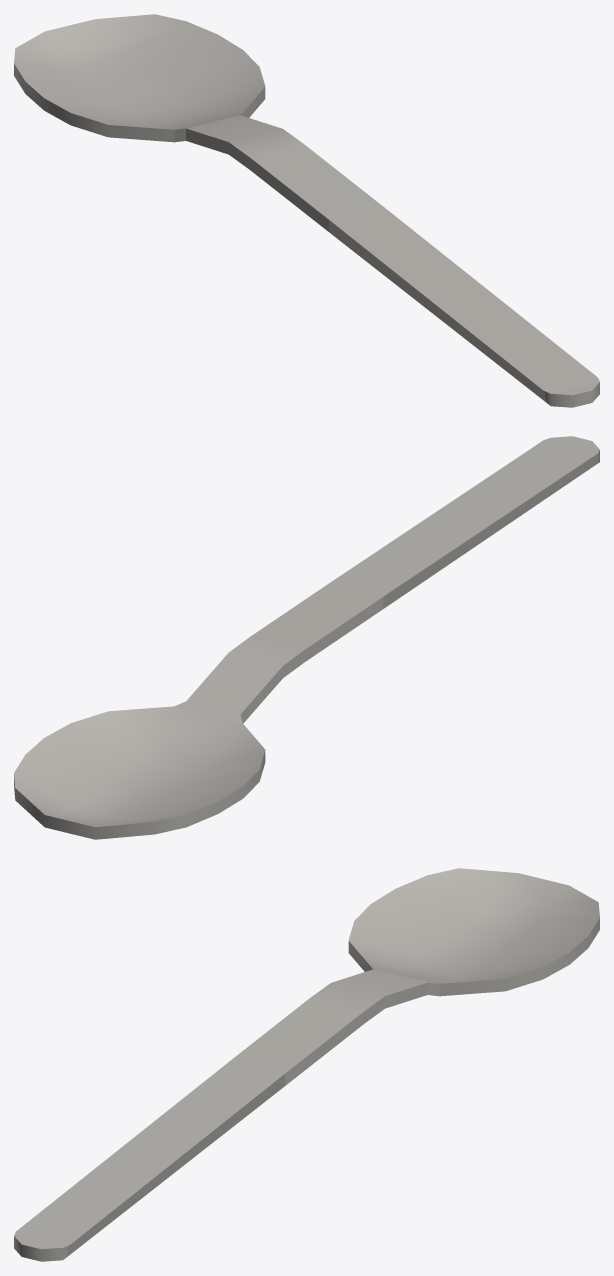
File: Spoon.fbx
3 renders of one model, top to bottom at view 1: azimuth 30°, elevation 25°; view 2: azimuth 150°, elevation 25°; view 3: azimuth 330°, elevation 25°, orthographic.
Visible parts, largest first — view 1: FORK:FORK:Spoon; view 2: FORK:FORK:Spoon; view 3: FORK:FORK:Spoon.
Part boxes in pixels (<box>): FORK:FORK:Spoon: <box>14,14,599,407</box>; FORK:FORK:Spoon: <box>14,436,599,839</box>; FORK:FORK:Spoon: <box>14,868,599,1261</box>.
Bounding box in the file's own units: 6.5 × 1.68 × 29.05.
